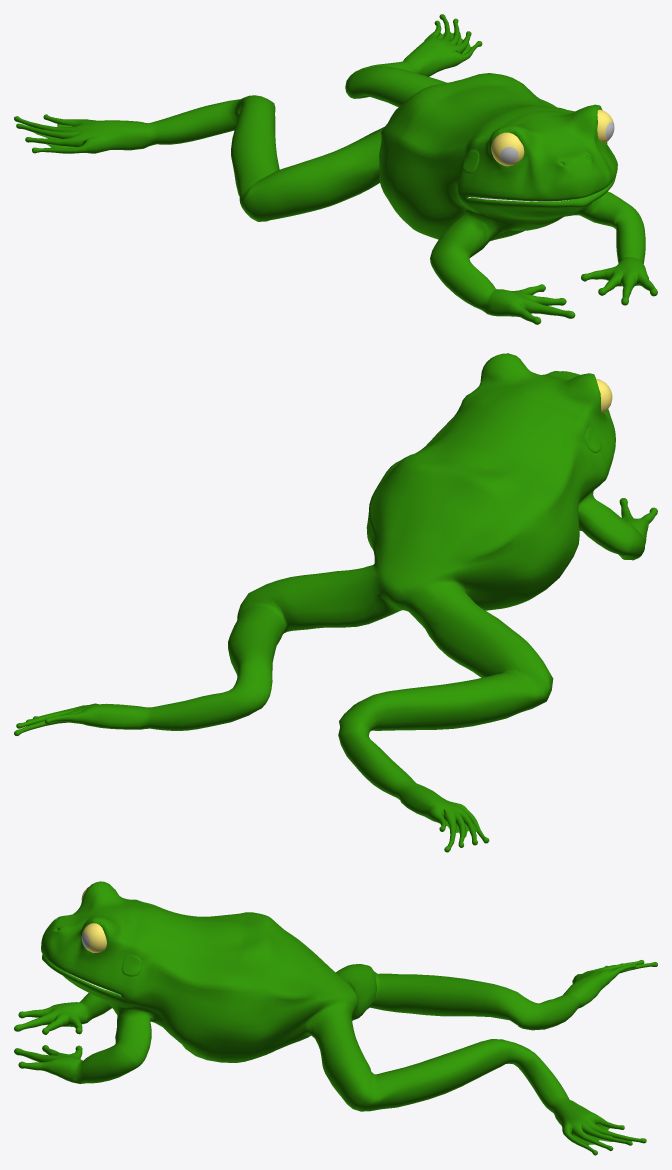
Rendered from Frog.OBJ.
The picture shows the model from 3 angles, top to bottom: view 1: azimuth 30°, elevation 25°; view 2: azimuth 150°, elevation 25°; view 3: azimuth 270°, elevation 25°; orthographic projection. The views are drawn at different scales.
Visible parts, largest first — view 1: Figure_2; view 2: Figure_2; view 3: Figure_2.
Part boxes in pixels (x1,y1,x2,y2): Figure_2: (14, 14, 657, 324); Figure_2: (14, 353, 657, 852); Figure_2: (14, 881, 657, 1155).
Size of what is drawn, in the model's own units: 0.0937 by 0.039 by 0.1338.
